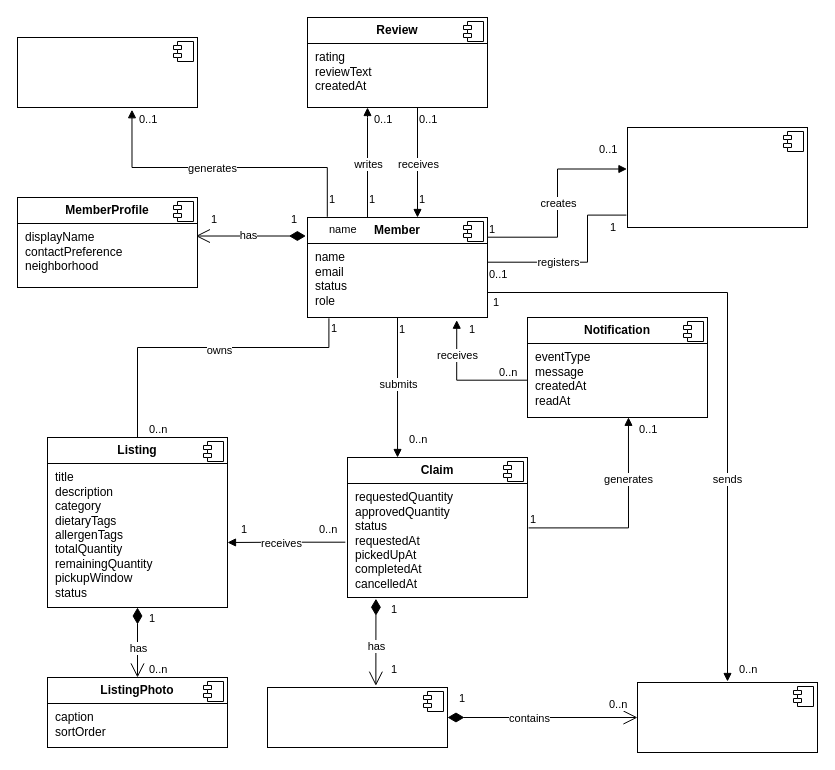
The diagram is 835 pixels wide and 770 high, and some of its shapes have lost their labels. Each missing label, with the centre of its shape:
"AdminReport reportType generatedAt" goes at (107,72).
"InviteToken tokenValue status expiresAt usedAt" goes at (717,177).
"Message body sentAt" goes at (727,717).
"MessageThread createdAt" goes at (357,717).
